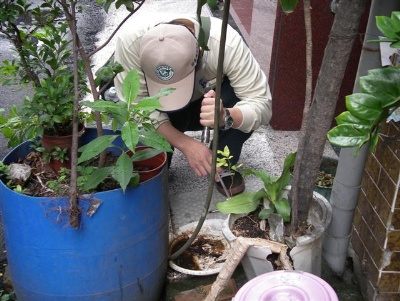bucket: (1, 129, 168, 301)
plate: (169, 218, 228, 276)
